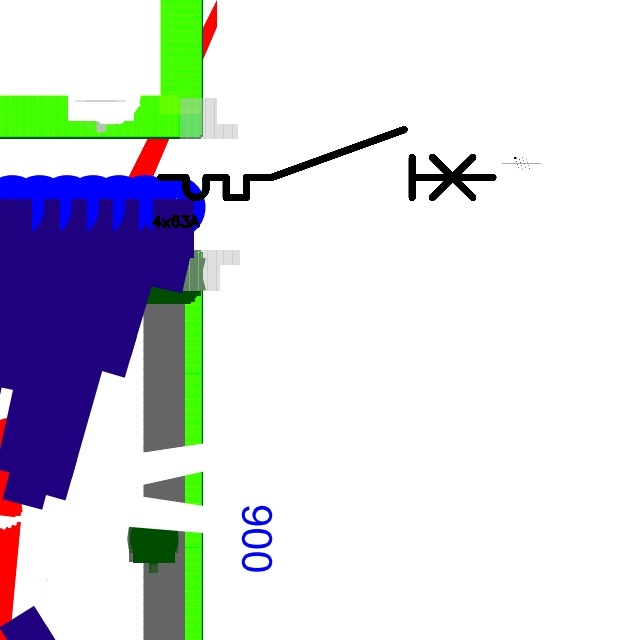interruptor_termomagnetico: (152, 121, 501, 206)
